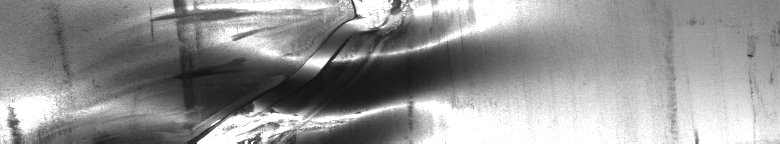ke: (4, 4, 470, 136)
